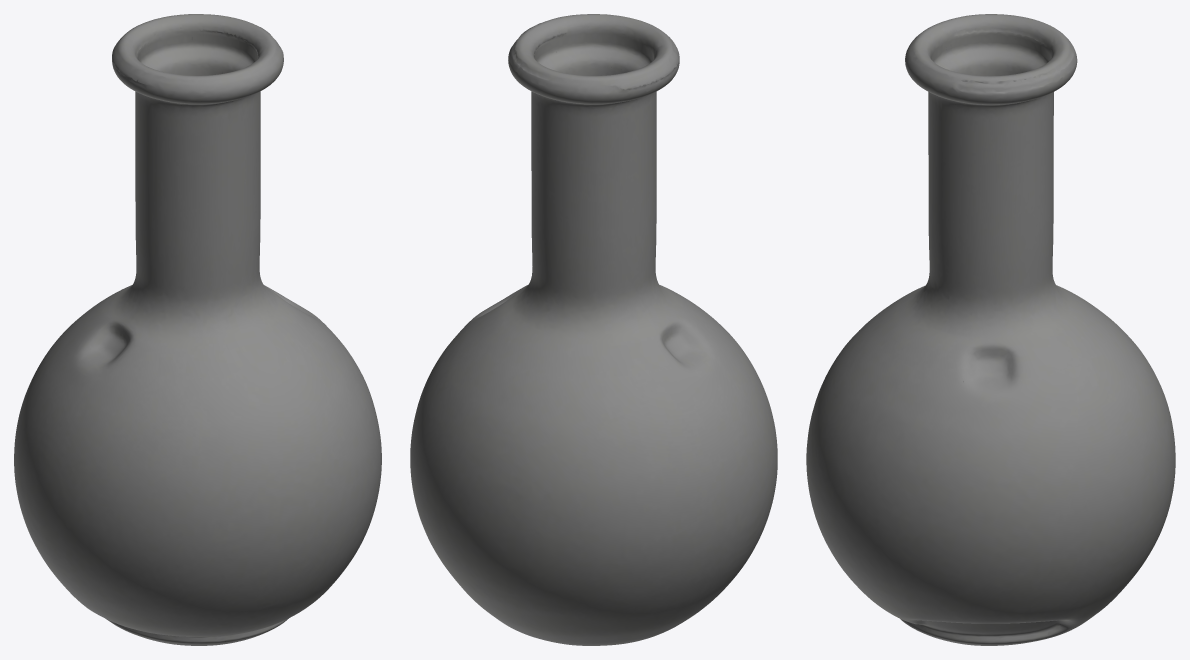
File: flask.glb
3 views of the same model, side by side, from view 1: azimuth 30°, elevation 25°; view 2: azimuth 150°, elevation 25°; view 3: azimuth 270°, elevation 25° (orthographic).
Parts seen in each view (by area): view 1: tripo_node_dc57873f-a667-4e9c-acfb-b1775658408e; view 2: tripo_node_dc57873f-a667-4e9c-acfb-b1775658408e; view 3: tripo_node_dc57873f-a667-4e9c-acfb-b1775658408e.
Part boxes in pixels (bbox=[...]): tripo_node_dc57873f-a667-4e9c-acfb-b1775658408e: bbox=[14, 14, 381, 645]; tripo_node_dc57873f-a667-4e9c-acfb-b1775658408e: bbox=[410, 14, 777, 645]; tripo_node_dc57873f-a667-4e9c-acfb-b1775658408e: bbox=[806, 14, 1175, 645].
Bounding box in the file's own units: 0.5757 × 0.9797 × 0.5764.
1 material, 1 textured.
